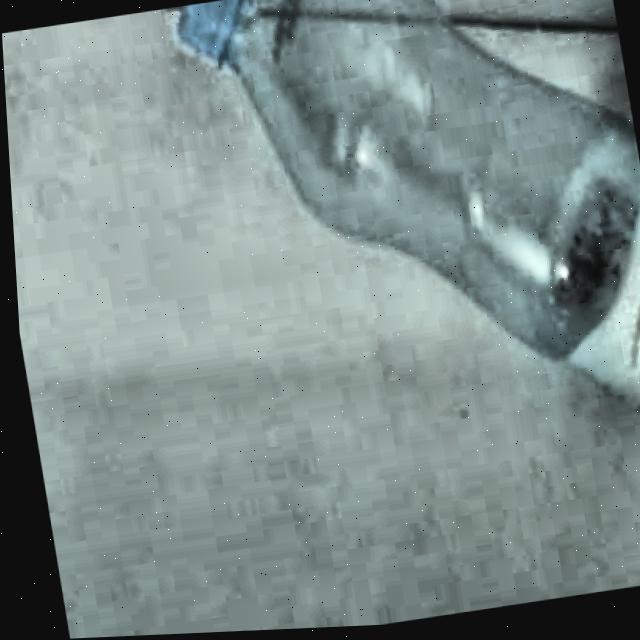plastic: (141, 0, 640, 635)
